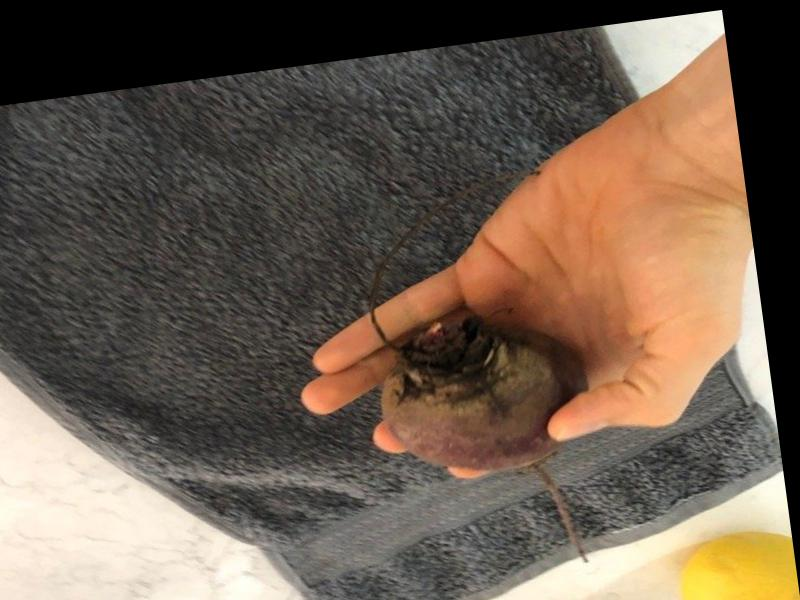Beet: (373, 295, 611, 585)
